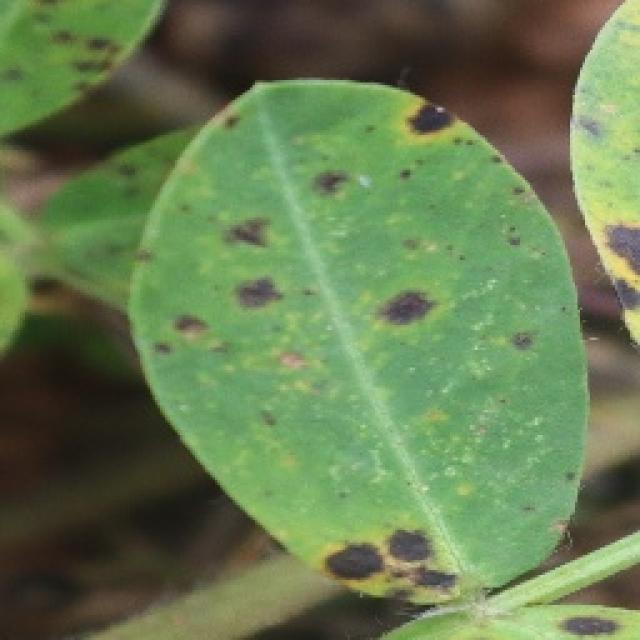Yellowish: (12, 25, 632, 640)
